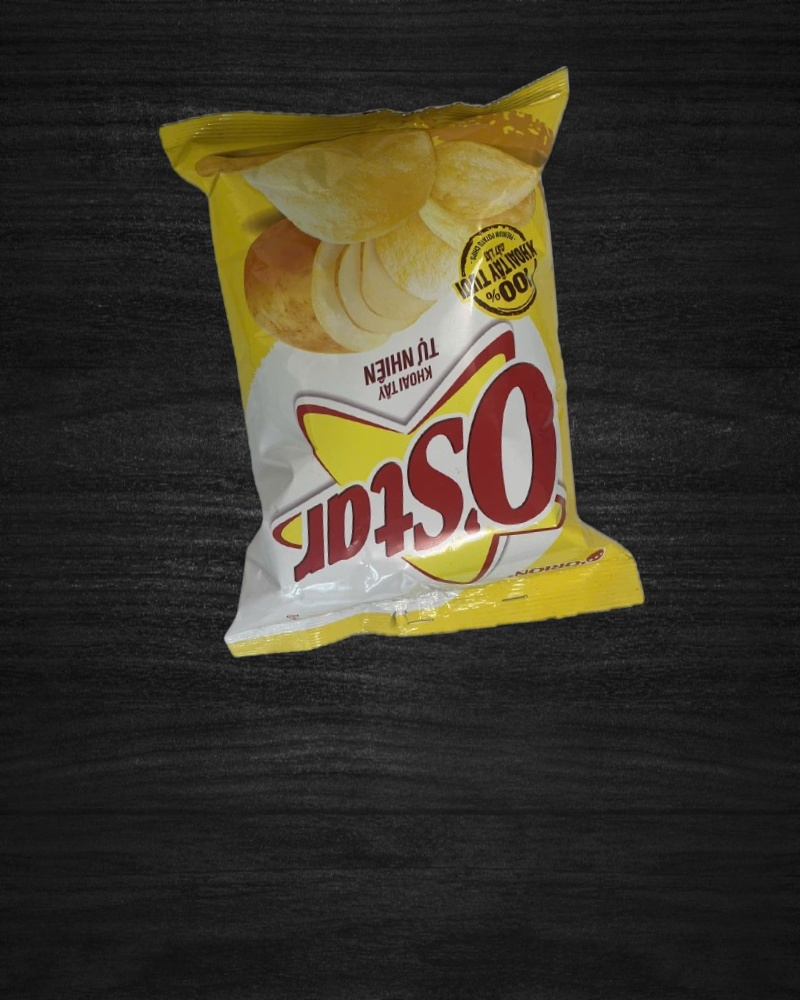Snack cua: (162, 70, 645, 654)
